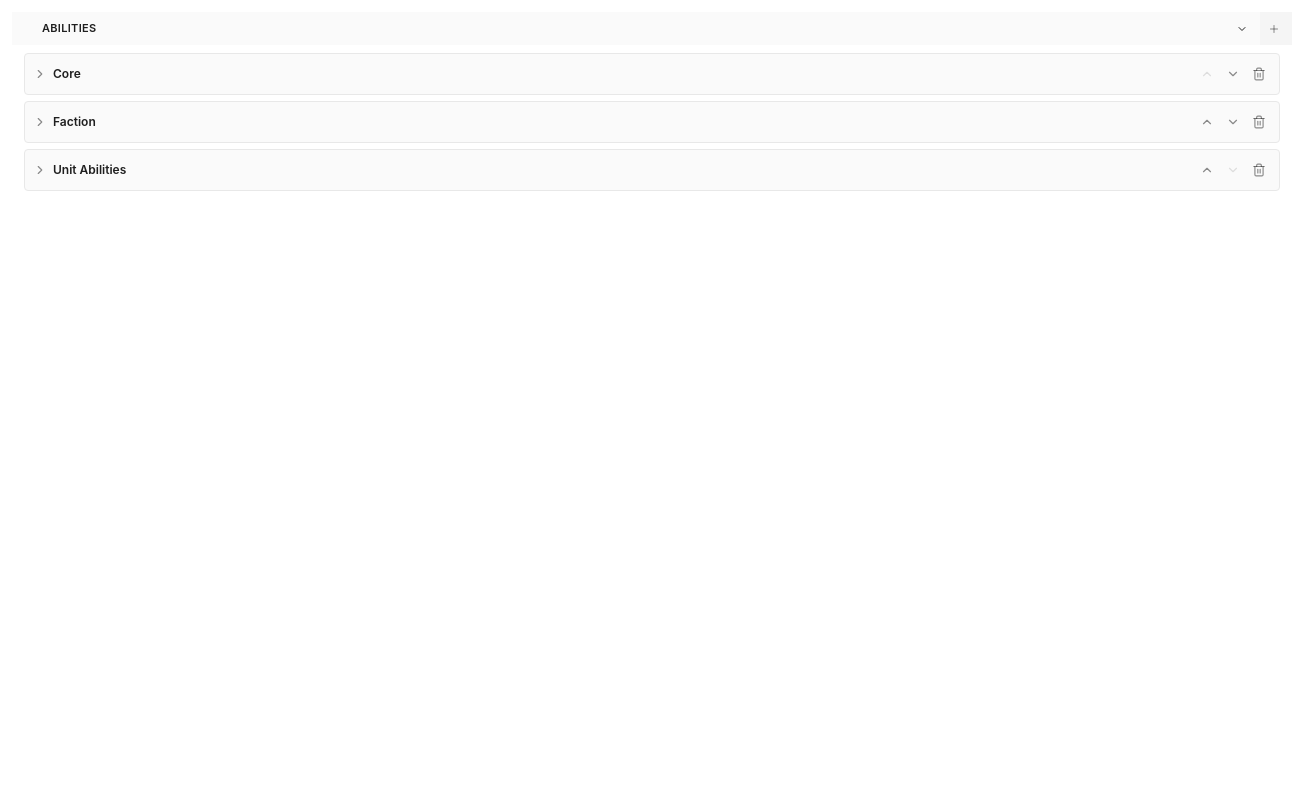
Test: AbilitiesSchemaEditor › renders category key inputs
The image size is (1292, 812).
Click the button "Core" at [40, 74], box [33,63,1189,86]
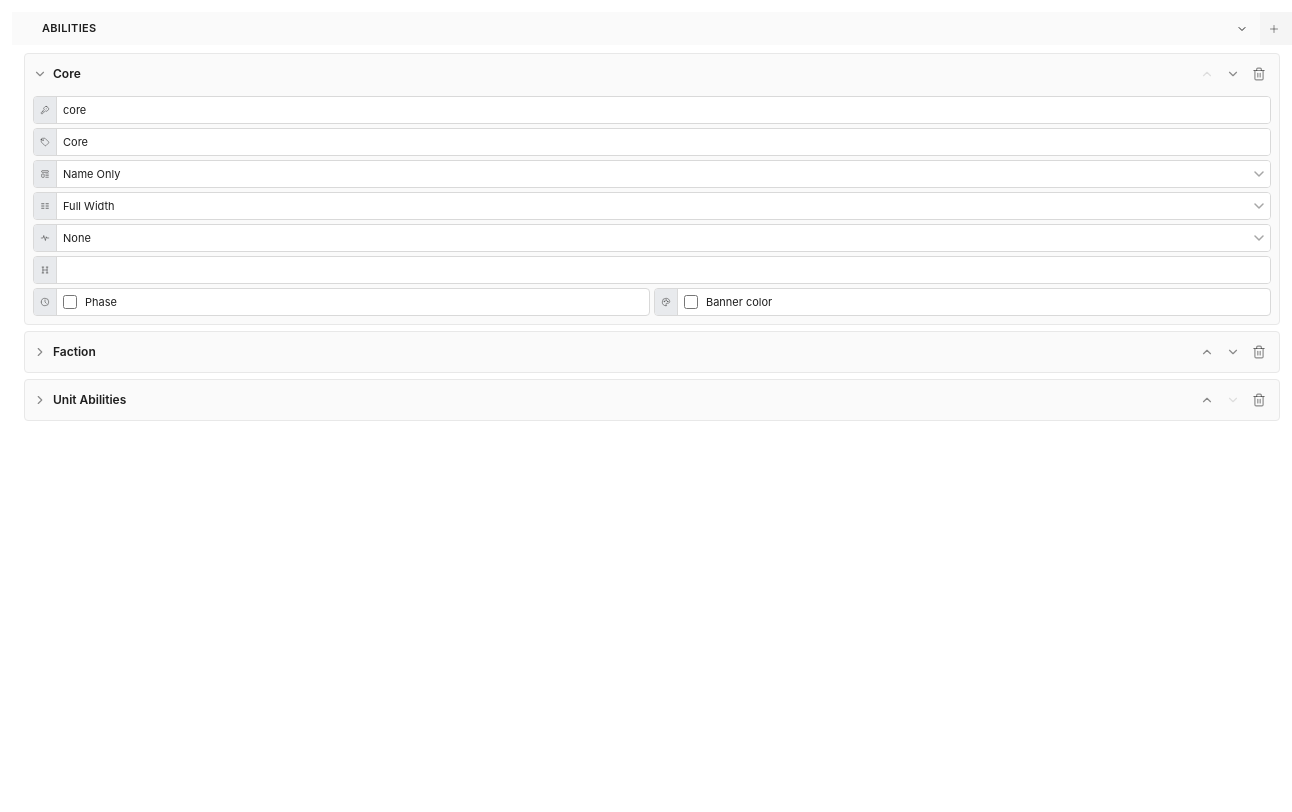
Click the button "Faction" at [74, 351], box [33,341,1189,364]
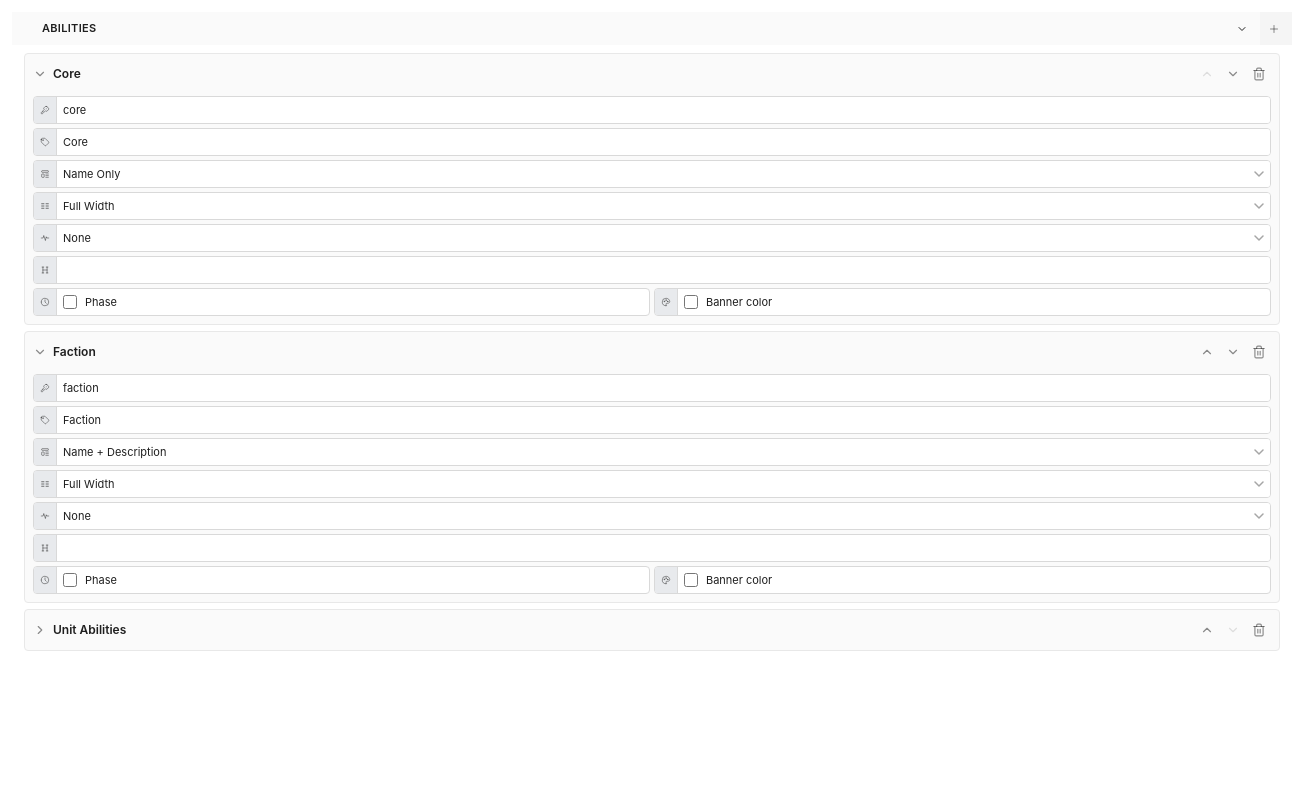
Click the button "Unit Abilities" at [90, 629], box [33,619,1189,642]
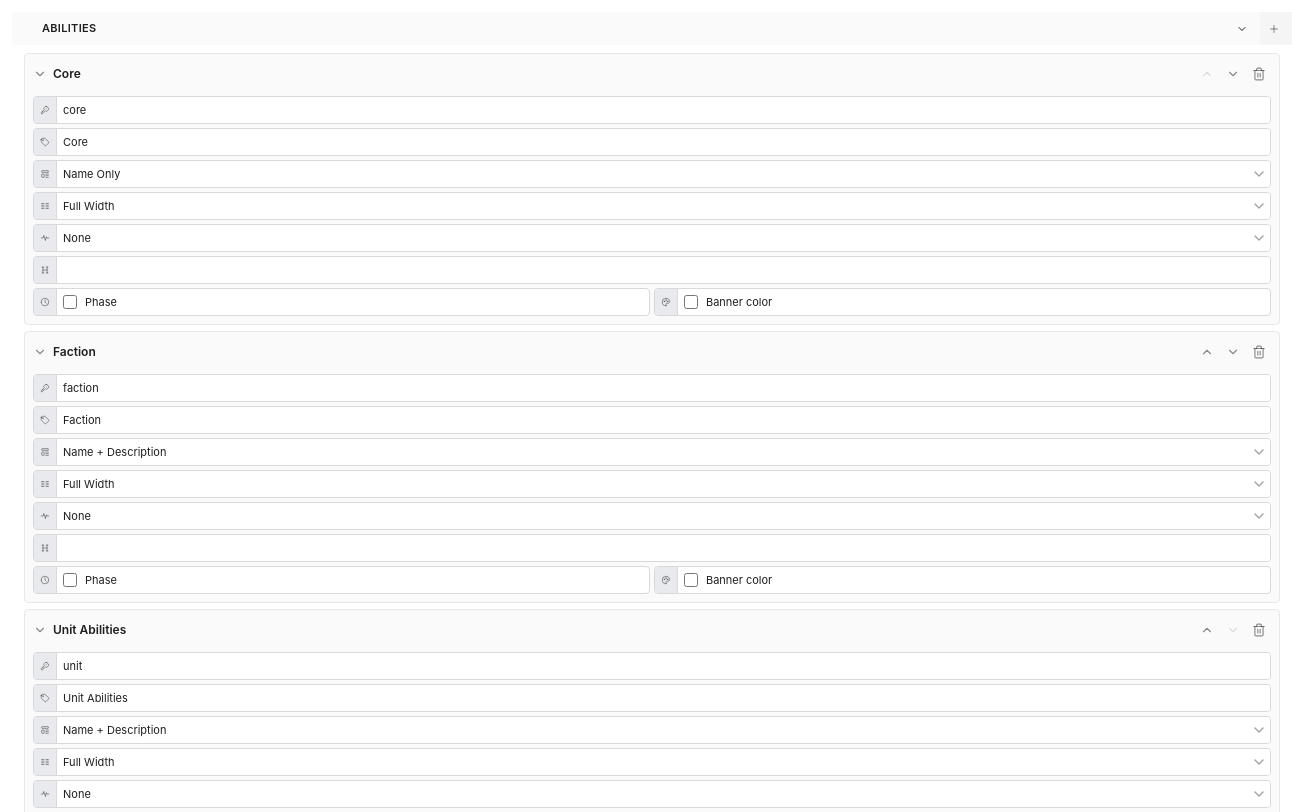
Expected: the 1st field showing "core" is shown, [57,97,1270,123]
Expected: the 2nd field showing "faction" is shown, [57,375,1270,401]
Expected: the 3rd field showing "unit" is shown, [57,653,1270,679]
